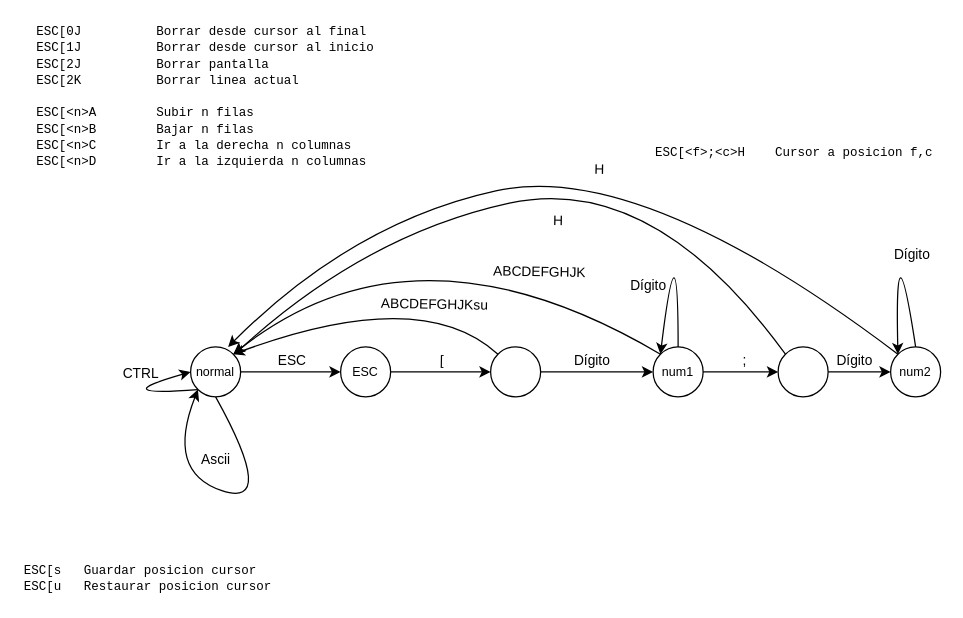
Some shapes in this 963 by 618 pixel diagram are drawn without their labels. Each missing label, with the centre of its shape:
CSI: the point at 515,371
semi: the point at 802,371
